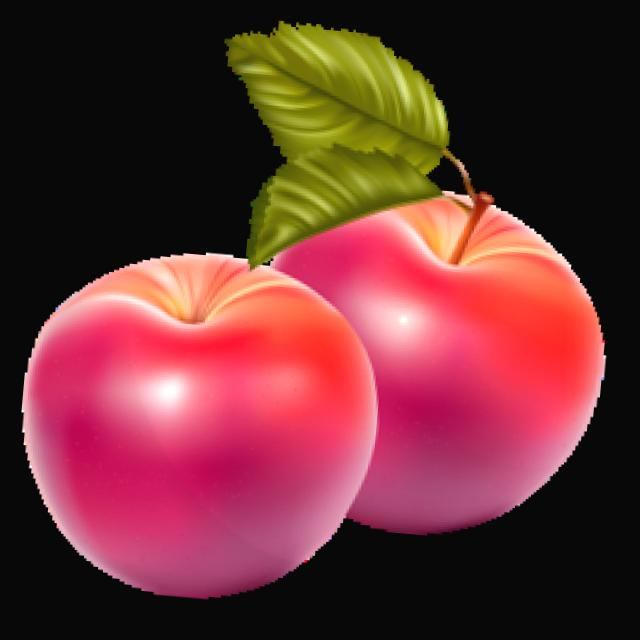Fresh_Apple: (234, 126, 628, 567), (0, 223, 436, 620)
